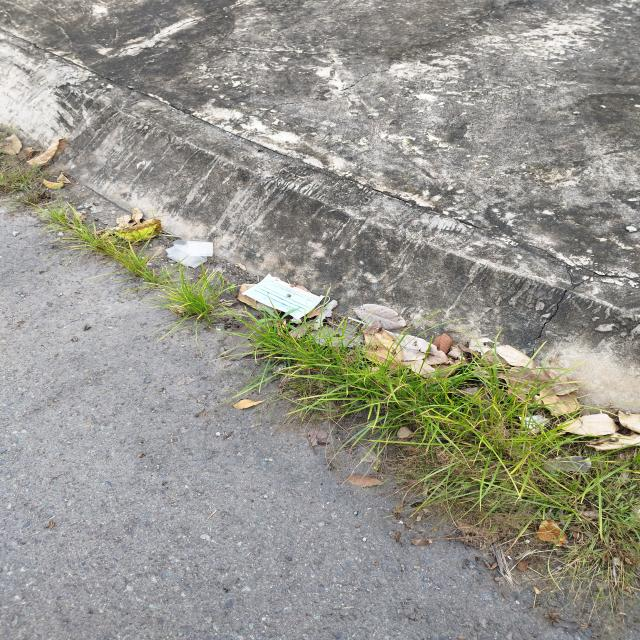mask: (242, 273, 331, 320)
napkin: (165, 239, 214, 269)
